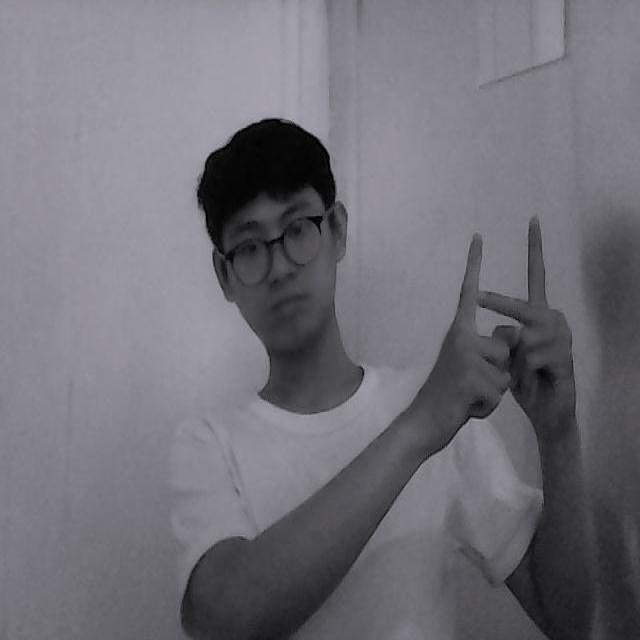H: (442, 205, 582, 416)
